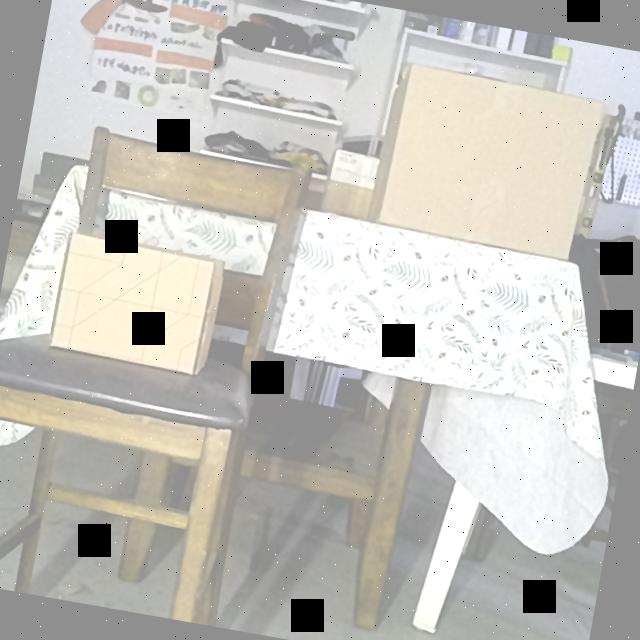box: (382, 68, 602, 259), (48, 236, 216, 374), (322, 149, 380, 221)
